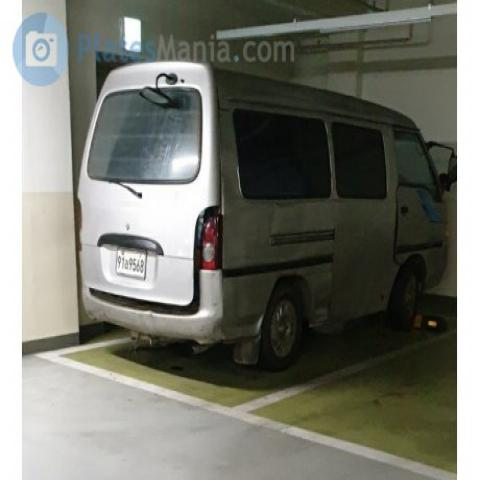LP: (110, 243, 159, 285)
